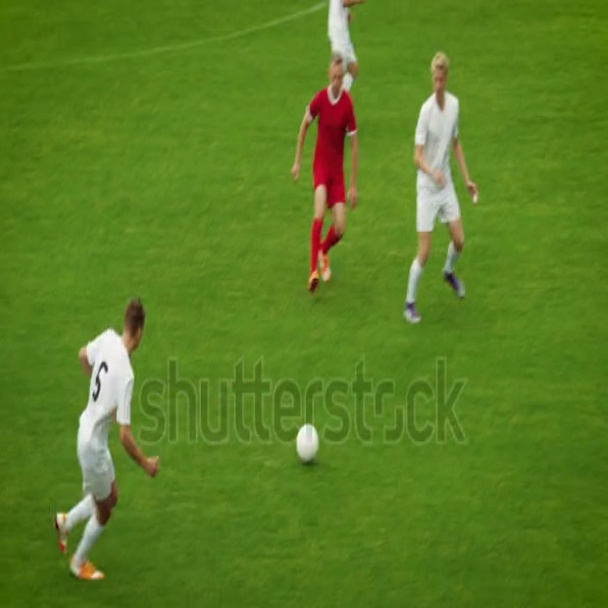ball: (292, 420, 324, 469)
